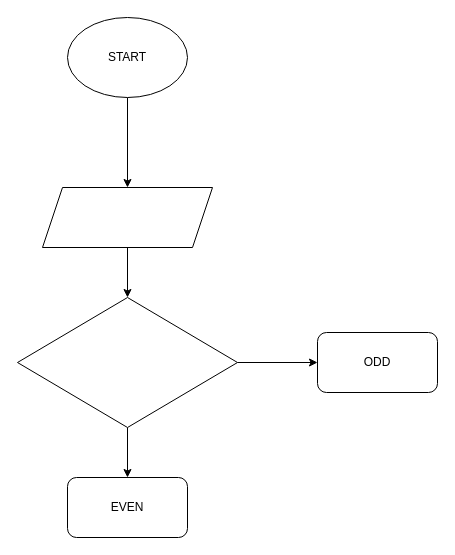
This 455x555 diagram has some shape labels left out. The centre of each missing label's shape, as x and y in pixels:
Check remainder of number /2 = 0: point (127, 362)
INPUT NUMBER: point (127, 217)
